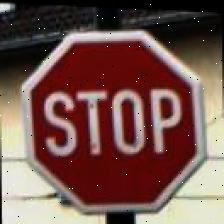Stop: (19, 20, 207, 218)
